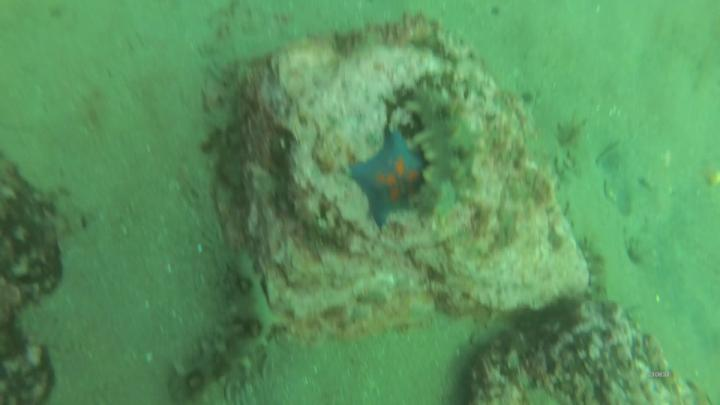holothurian: (169, 248, 278, 404), (393, 83, 482, 219)
starfish: (348, 127, 430, 234)
